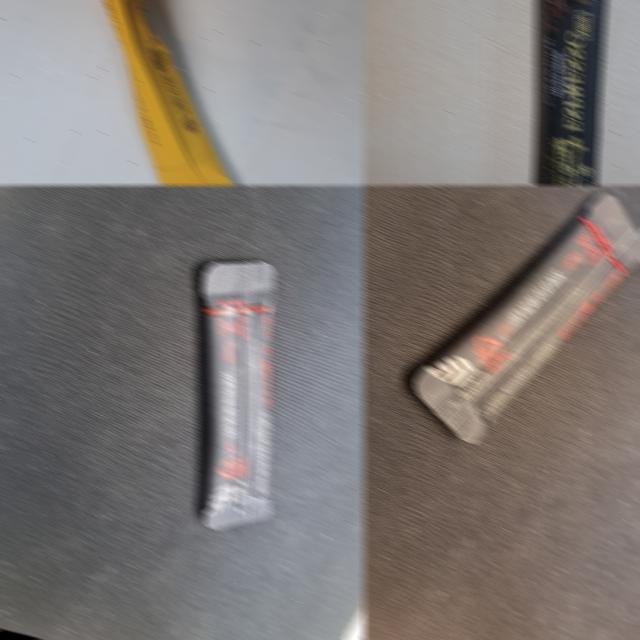KANU: (385, 184, 640, 484), (128, 222, 342, 568)
espresso_mini: (449, 0, 640, 185)
mix_coffee: (0, 0, 347, 185)
